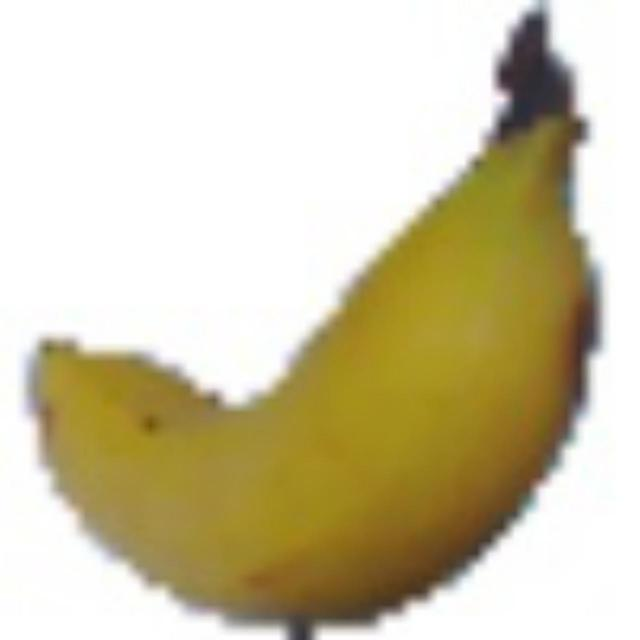banana: (0, 0, 602, 634)
